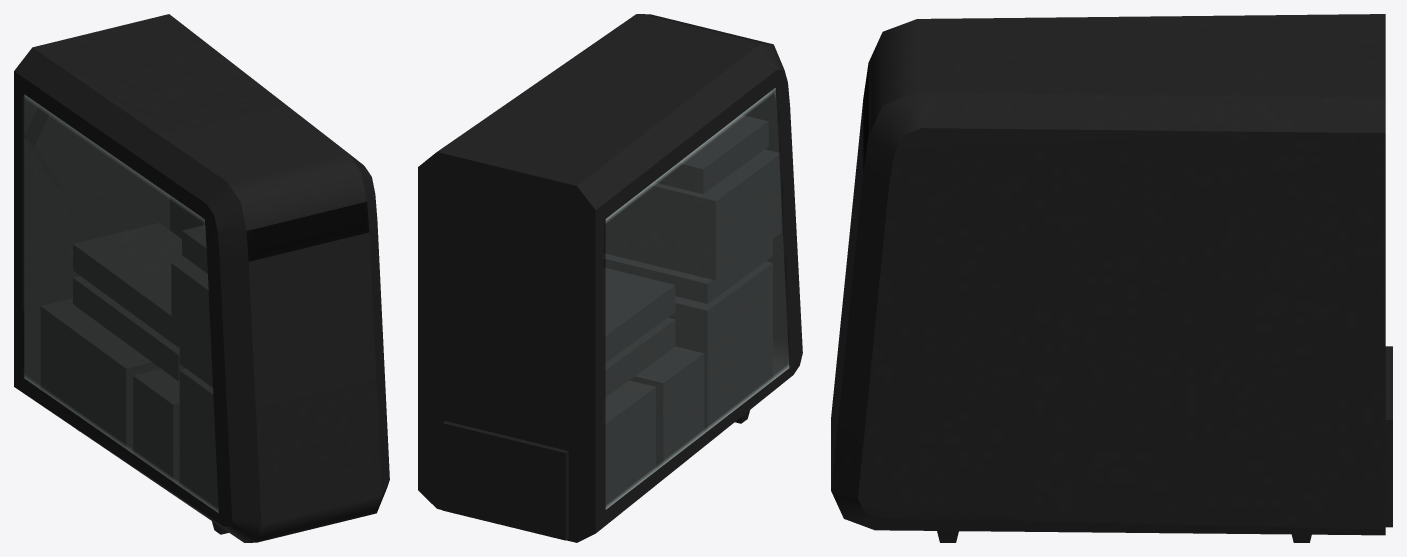
3 views of the same model, side by side, from view 1: azimuth 30°, elevation 25°; view 2: azimuth 150°, elevation 25°; view 3: azimuth 270°, elevation 25° (orthographic). The views are drawn at different scales.
Visible parts, largest first — view 1: Case_low, psu_low, sli_low, fan1_low, idk_low, box_low, gpu_low, hdd_low, optical_low, mboard_low, ssd_low; view 2: Case_low, psu_low, hdd_low, idk_low, box_low, sli_low, optical_low, ssd_low, gpu_low; view 3: Case_low, psu_low.
Part boxes in pixels (box(x1,y1,x2,y2)): Case_low: box(14, 14, 389, 542); psu_low: box(40, 298, 160, 452); sli_low: box(73, 223, 186, 347); fan1_low: box(24, 105, 129, 192); idk_low: box(179, 368, 219, 512); box_low: box(133, 369, 179, 485); gpu_low: box(73, 276, 185, 381); hdd_low: box(171, 259, 212, 370); optical_low: box(182, 225, 208, 273); mboard_low: box(170, 196, 205, 238); ssd_low: box(179, 347, 212, 387); Case_low: box(418, 14, 802, 542); psu_low: box(442, 380, 655, 540); hdd_low: box(603, 149, 781, 280); idk_low: box(668, 261, 772, 432); box_low: box(629, 346, 704, 468); sli_low: box(603, 268, 675, 363); optical_low: box(654, 115, 768, 193); ssd_low: box(603, 239, 772, 303); gpu_low: box(603, 317, 675, 398); Case_low: box(831, 14, 1385, 535); psu_low: box(1385, 346, 1392, 527).
Bounding box in the file's own units: 0.8956 × 1.78 × 2.
1 material, 1 textured.
